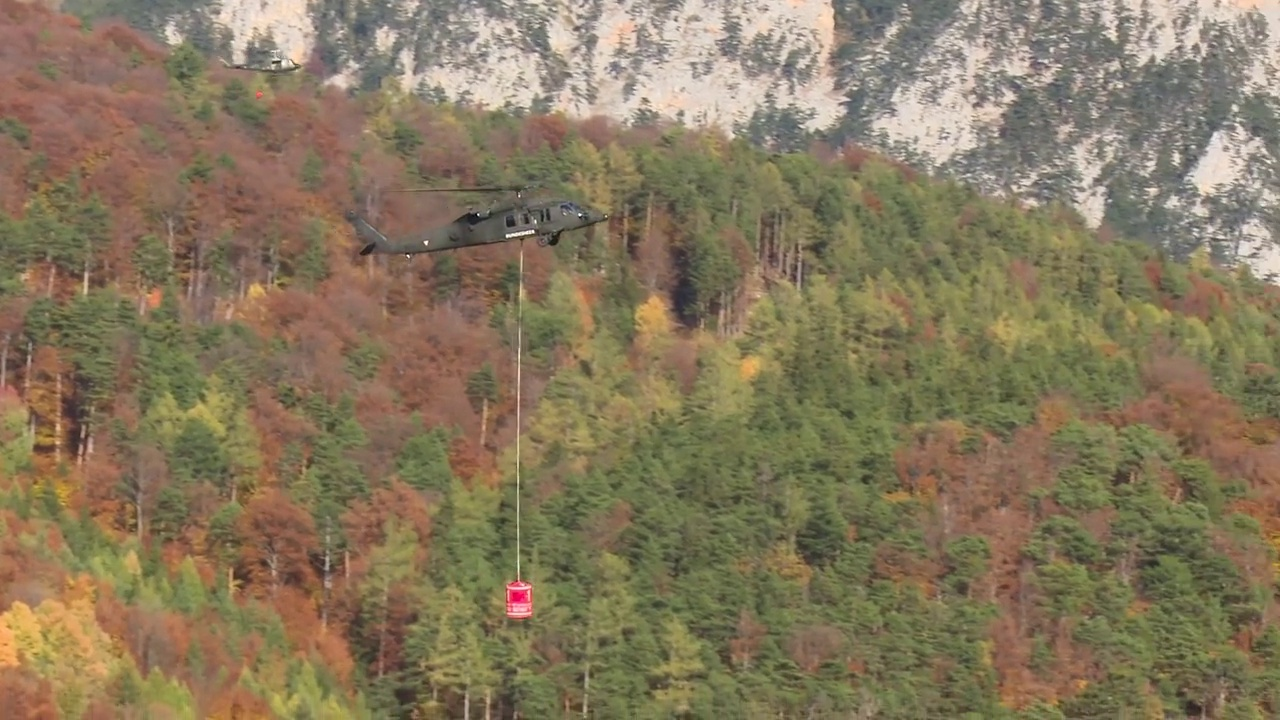heli: (343, 185, 610, 262), (217, 45, 300, 78)
